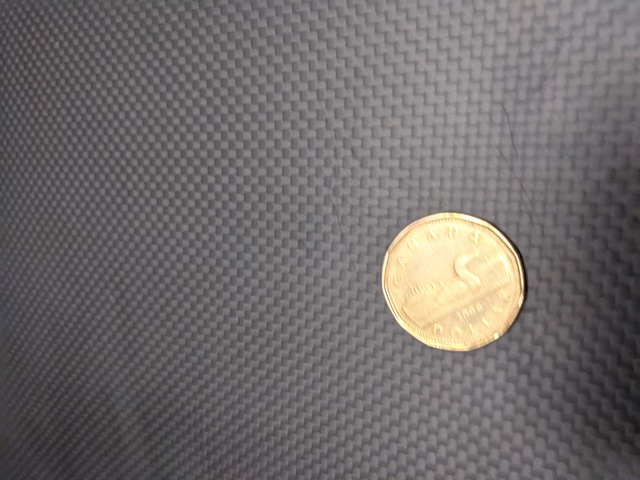loonie: (378, 204, 544, 361)
